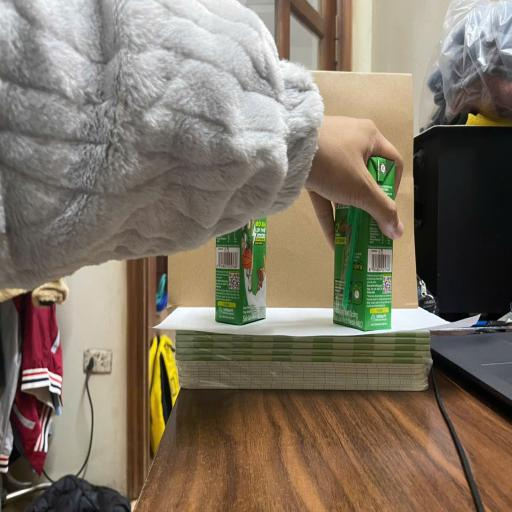milo: (334, 156, 392, 331), (215, 236, 267, 326)
